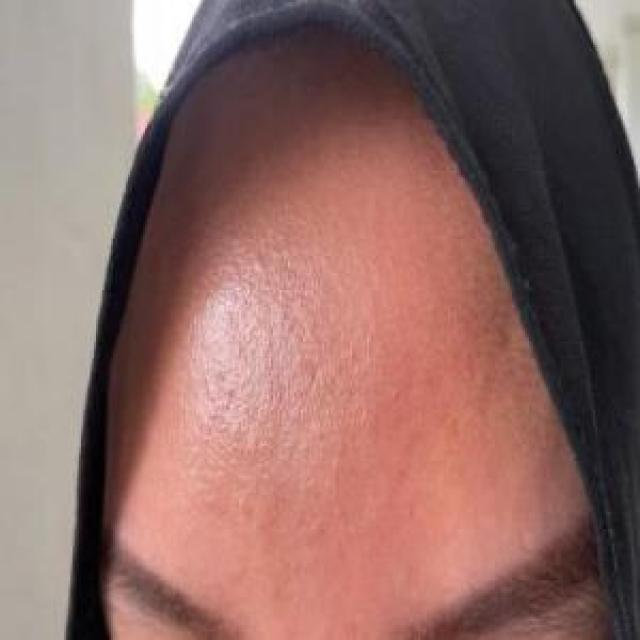Oily-Skin: (142, 162, 517, 608)
